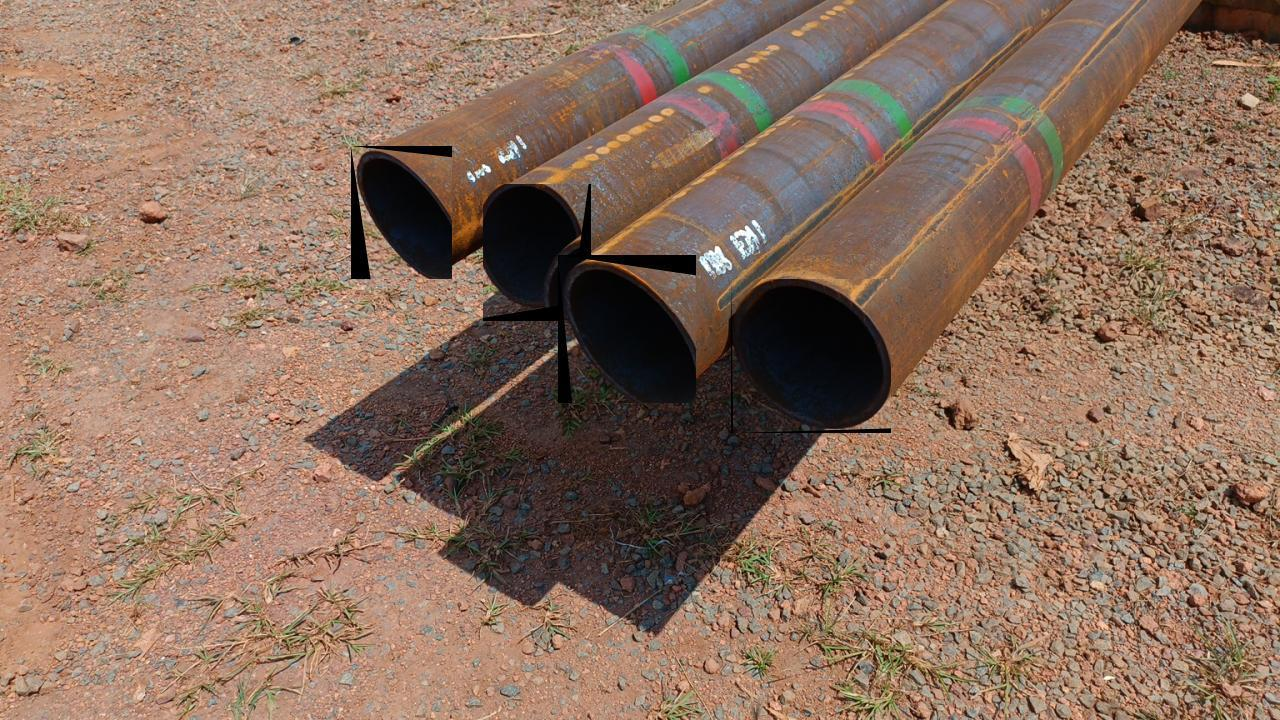pipe: (731, 280, 891, 434), (558, 255, 696, 403), (483, 184, 591, 321), (351, 146, 452, 279)
